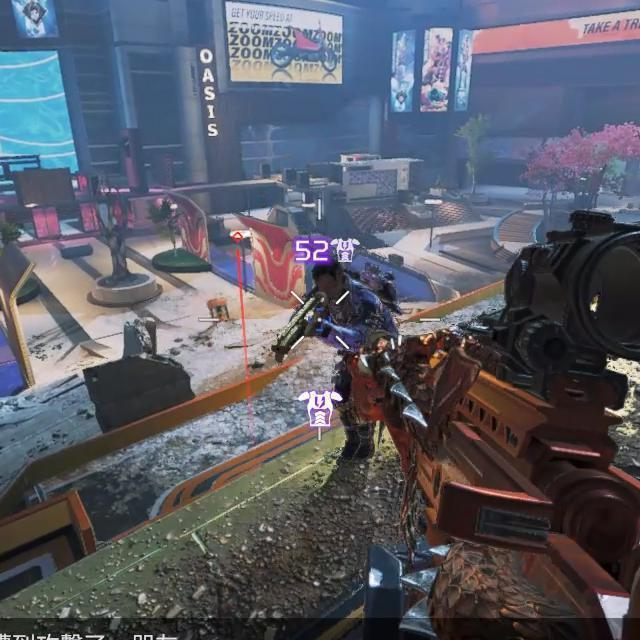avatar: (304, 258, 399, 467)
